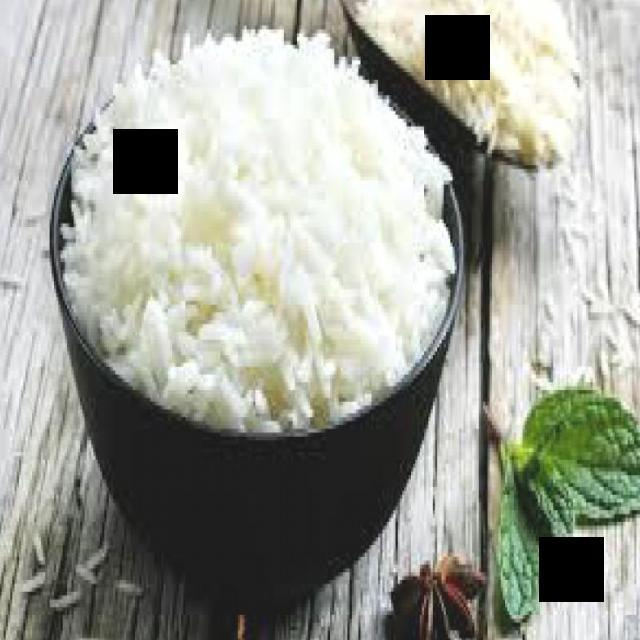rice: (62, 23, 456, 435)
